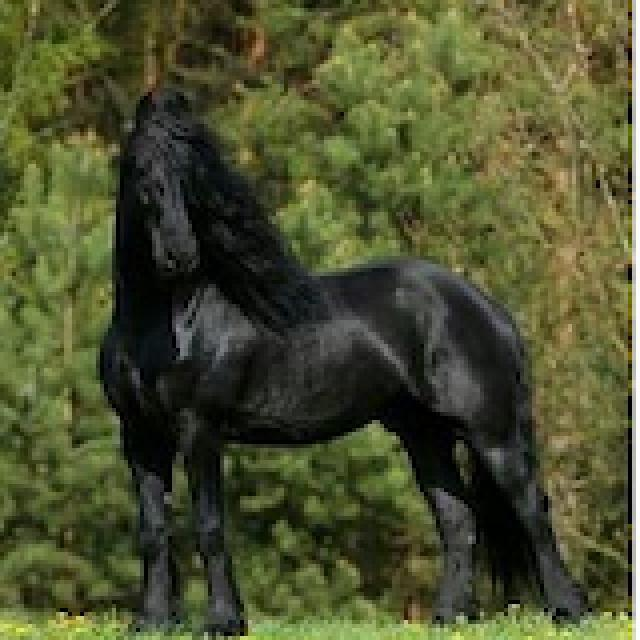Horse: (88, 80, 592, 636)
